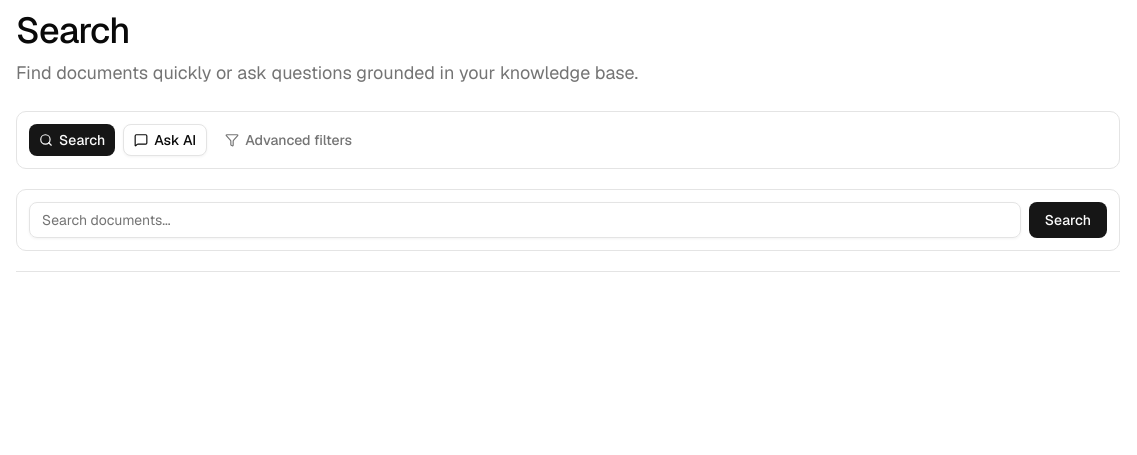
Test: Search Behavior › should show weak context warning when backend marks weak context
Click the button "Ask AI" at (165, 140), box [123,124,207,156]
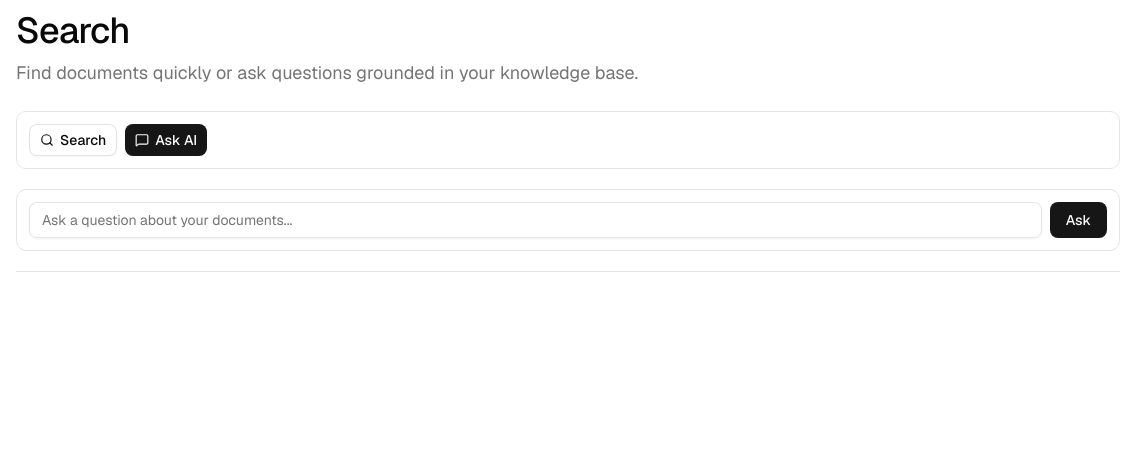
Type "hard question" into the field with test id "search-input" at (535, 220), box [29,202,1042,238]
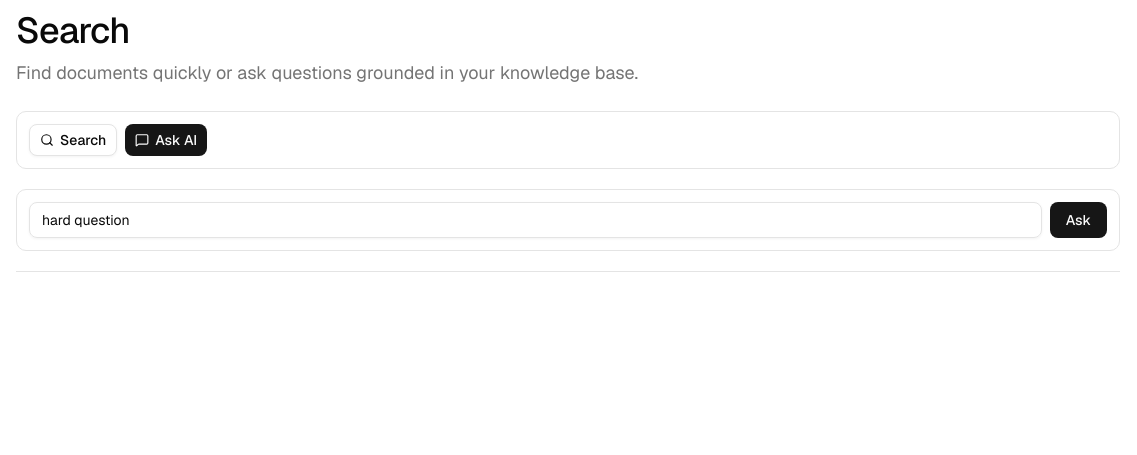
Click the button with test id "search-submit" at (1078, 220), box [1050,202,1107,238]
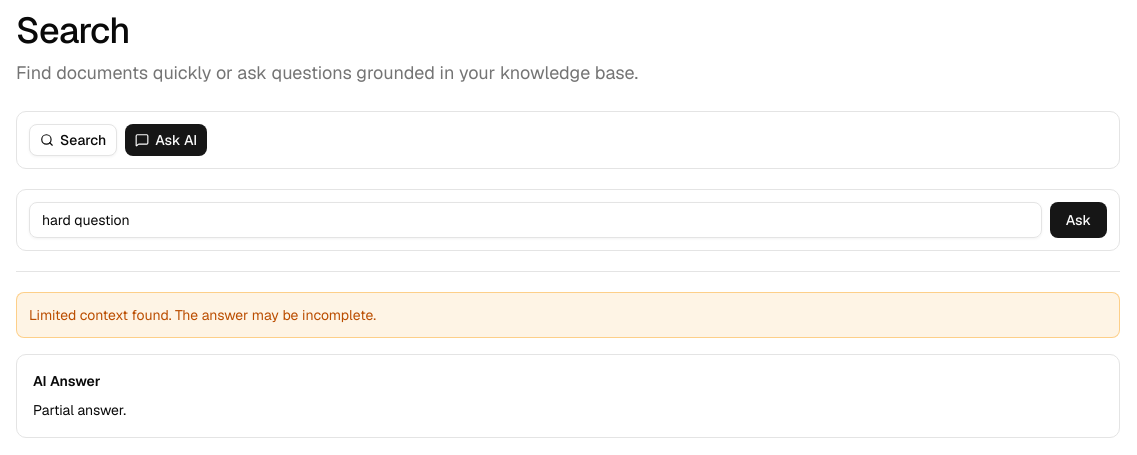
Now the element with test id "ask-result" is shown, box [16,292,1120,438]
Now the text "Limited context found. The answer may be incomplete." is shown, box [16,292,1120,338]
